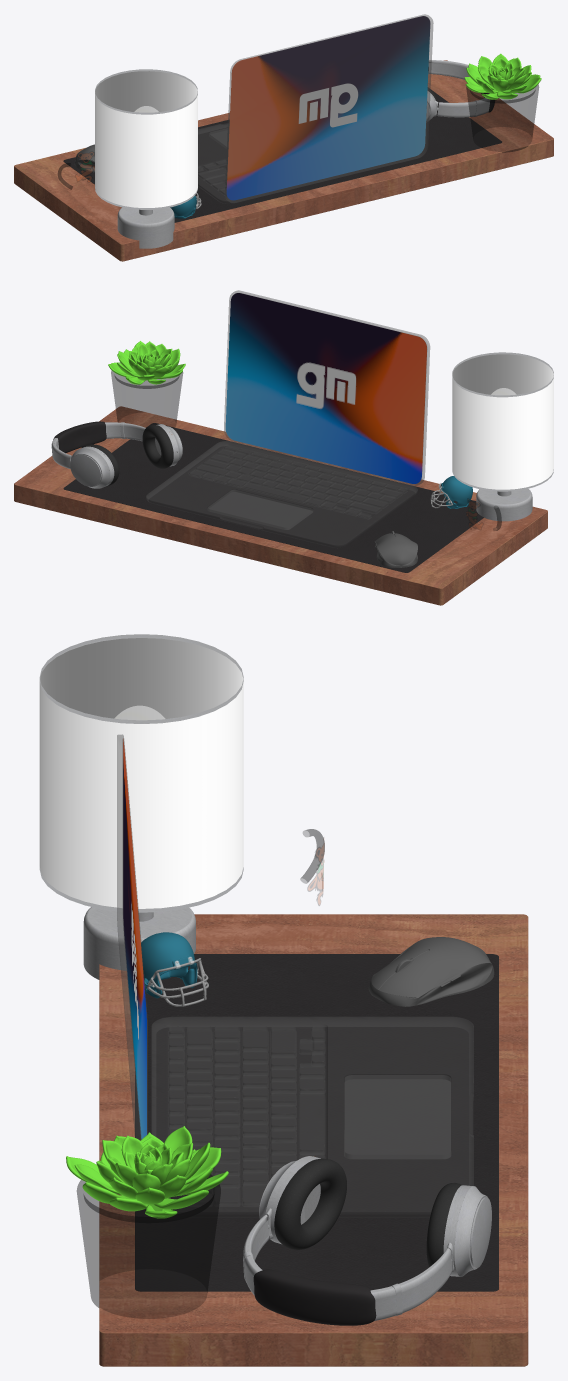
File: Desk_06-v1.glb
3 views of the same model, one above another, from view 1: azimuth 30°, elevation 25°; view 2: azimuth 150°, elevation 25°; view 3: azimuth 270°, elevation 25° (orthographic). The views are drawn at different scales.
Visible parts, largest first — view 1: object_10, Screen, object_70, Cylinder.001, object_1, object_13, object_1.002, object_1.001, object_16, Helmet.001, object_24; view 2: Screen, object_1, object_70, object_10, Cylinder.001, object_13, object_1.001, object_1.002, object_3, Helmet.001, object_16; view 3: object_1, object_70, object_10, Cylinder.001, object_1.001, object_1.002, object_13, object_3, Screen, Helmet.001, object_16.
Part boxes in pixels (x1,y1,x2,y2): object_10: [198, 14, 433, 203]; Screen: [226, 16, 430, 200]; object_70: [14, 60, 553, 261]; Cylinder.001: [95, 71, 197, 207]; object_1: [63, 87, 501, 222]; object_13: [95, 60, 489, 248]; object_1.002: [466, 84, 538, 152]; object_1.001: [74, 53, 541, 172]; object_16: [95, 91, 436, 209]; Helmet.001: [170, 193, 201, 218]; object_24: [75, 152, 94, 182]; Screen: [225, 293, 426, 483]; object_1: [53, 421, 483, 572]; object_70: [14, 406, 547, 605]; object_10: [86, 290, 429, 547]; Cylinder.001: [452, 354, 553, 489]; object_13: [51, 352, 553, 521]; object_1.001: [108, 341, 417, 567]; object_1.002: [111, 362, 182, 428]; object_3: [82, 425, 173, 486]; Helmet.001: [430, 476, 472, 508]; object_16: [83, 425, 553, 491]; object_1: [135, 954, 498, 1325]; object_70: [99, 914, 528, 1366]; object_10: [117, 734, 473, 1246]; Cylinder.001: [39, 638, 243, 908]; object_1.001: [66, 937, 494, 1218]; object_1.002: [77, 1174, 220, 1318]; object_13: [39, 634, 491, 1320]; object_3: [274, 1158, 462, 1266]; Screen: [123, 739, 146, 1139]; Helmet.001: [141, 932, 208, 1006]; object_16: [39, 867, 466, 1276].
Size of the model in its own units: 6.56 by 2.38 by 3.17.
15 materials, 14 textured.
